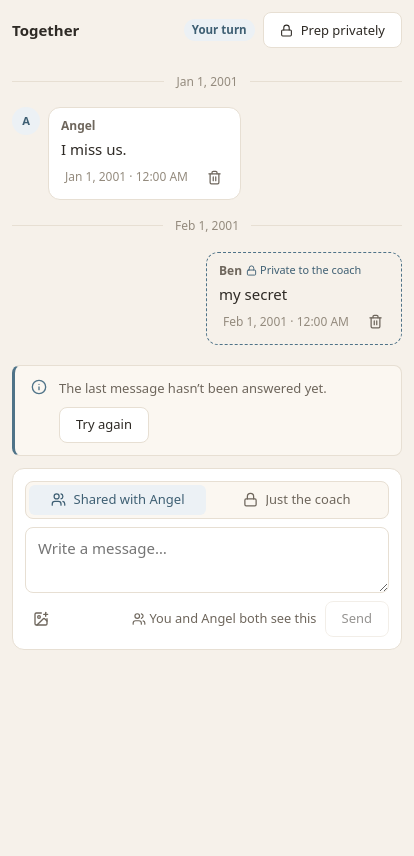
Scenario: TogetherThread (§3.6) › renders author-attributed bubbles + marks a private aside; the composer arms the aside toggle
Expected: the text "Angel" is shown, left=61, top=116, right=96, bottom=135
Expected: the text "my secret" is shown, left=219, top=284, right=287, bottom=304
Step 1. Click the button "Just the coach" → (296,500), box left=208, top=484, right=385, bottom=514
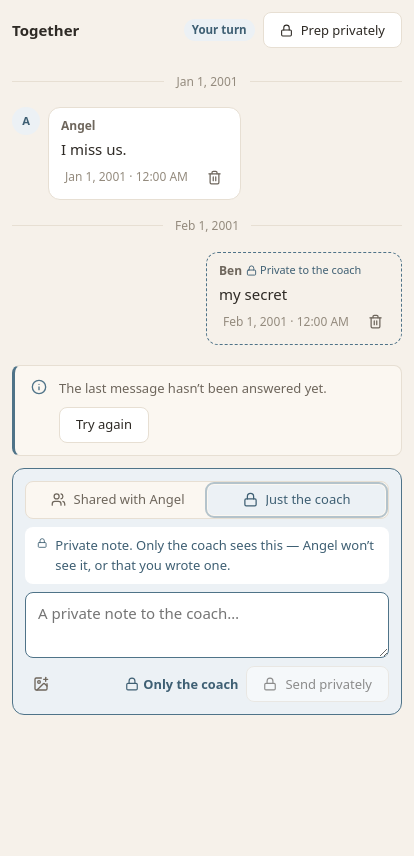
Expected: the text "Your turn" is shown, left=184, top=19, right=255, bottom=41
Expected: the text "Only the coach sees this" is shown, left=55, top=536, right=303, bottom=554
Expected: the button "Send privately" is shown, left=246, top=666, right=389, bottom=702
